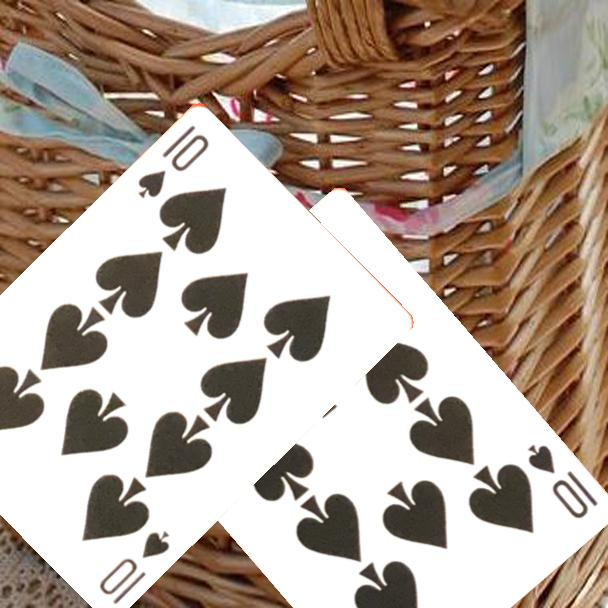s10: (134, 121, 213, 201), (524, 441, 602, 522), (95, 526, 173, 607)
